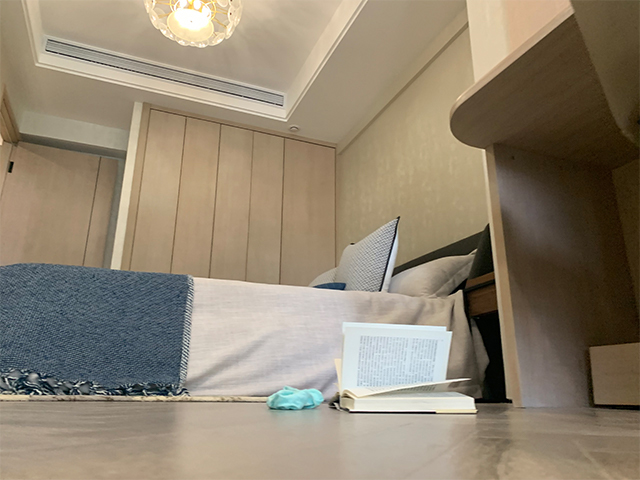bed: (1, 214, 503, 402)
book: (327, 320, 481, 416)
cabinet: (462, 269, 505, 403)
carpet: (1, 393, 268, 403)
socks: (264, 385, 326, 412)
table: (447, 4, 640, 411)
